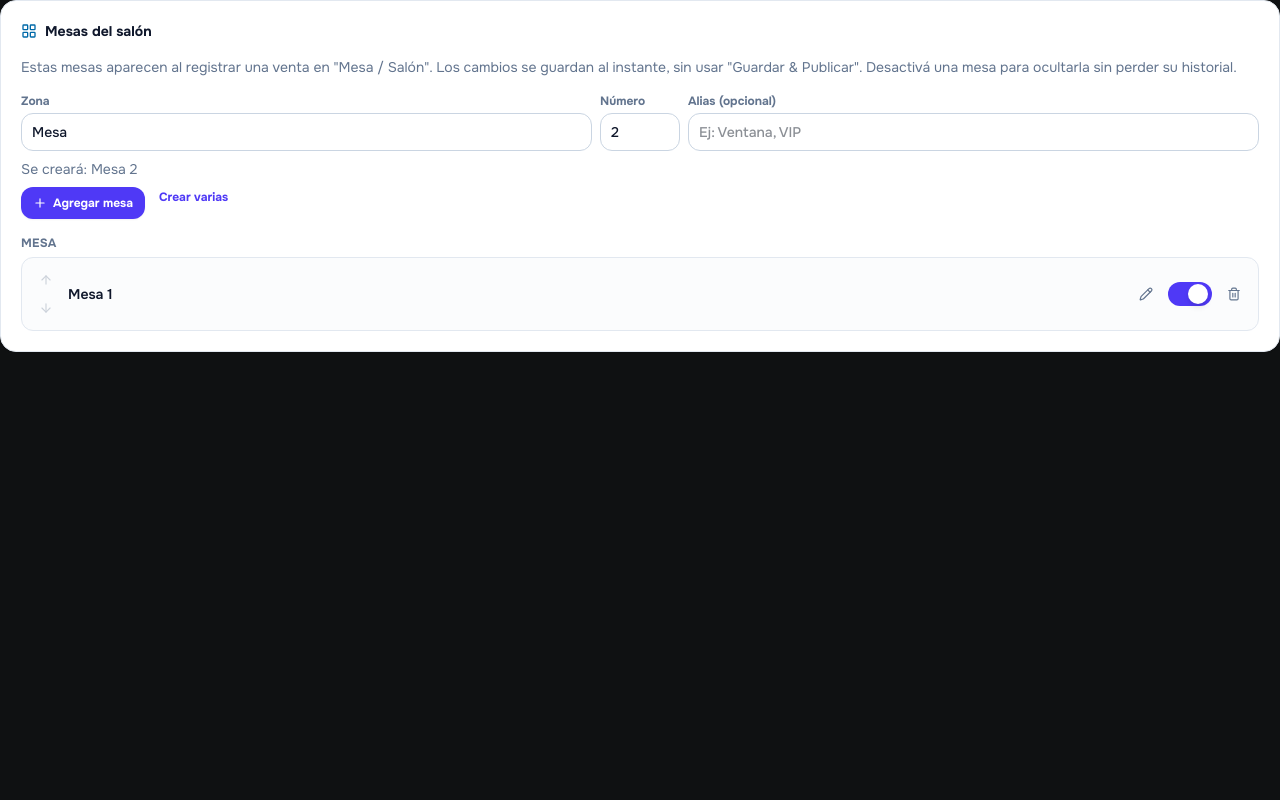
Test: CustomizerTablesSection › asks for confirmation before deleting and keeps the table when cancelled
Expected: the text "Mesa 1" is shown, [68,285,113,303]
Click the button named "Eliminar Mesa 1".
click(1234, 294)  # box [1220,280,1248,308]
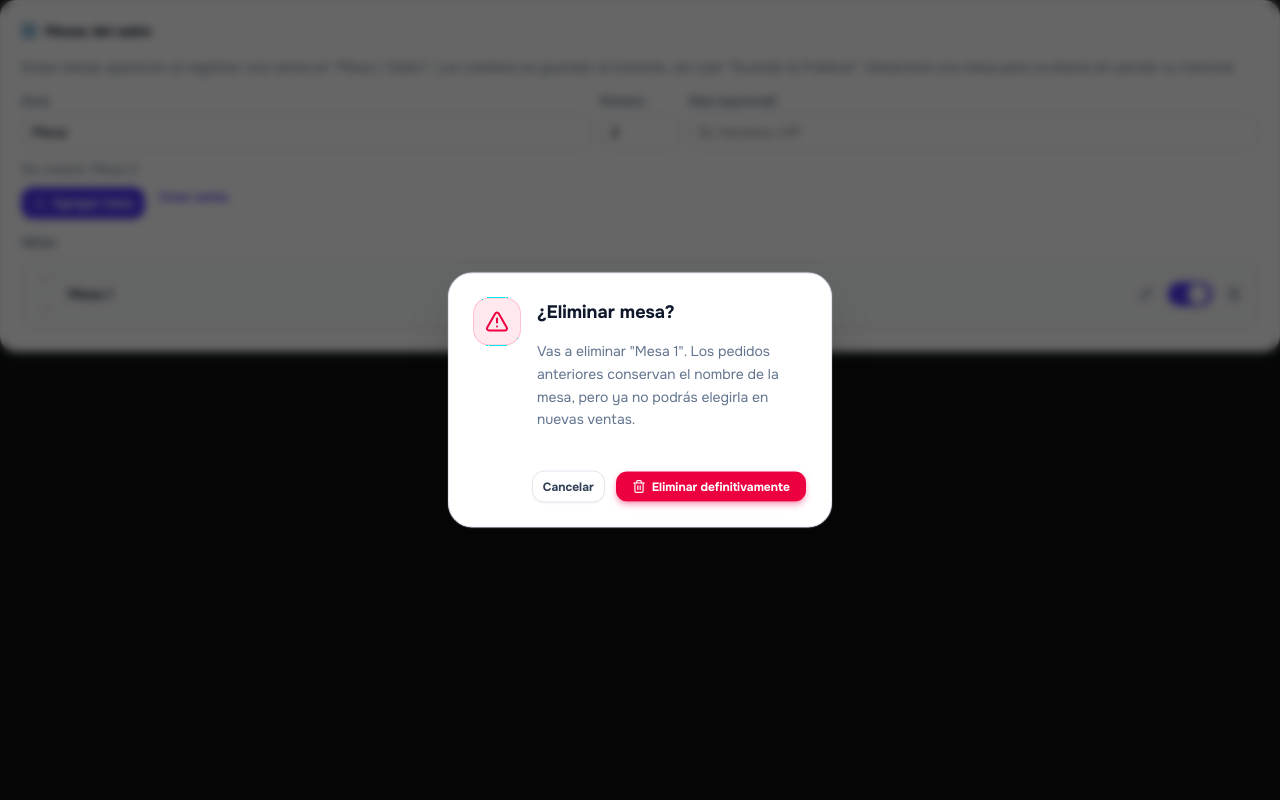
Expected: the text "Mesa 1" is shown, [537,342,779,428]
Click the button "Cancelar".
click(568, 486)  # box [532,470,605,502]
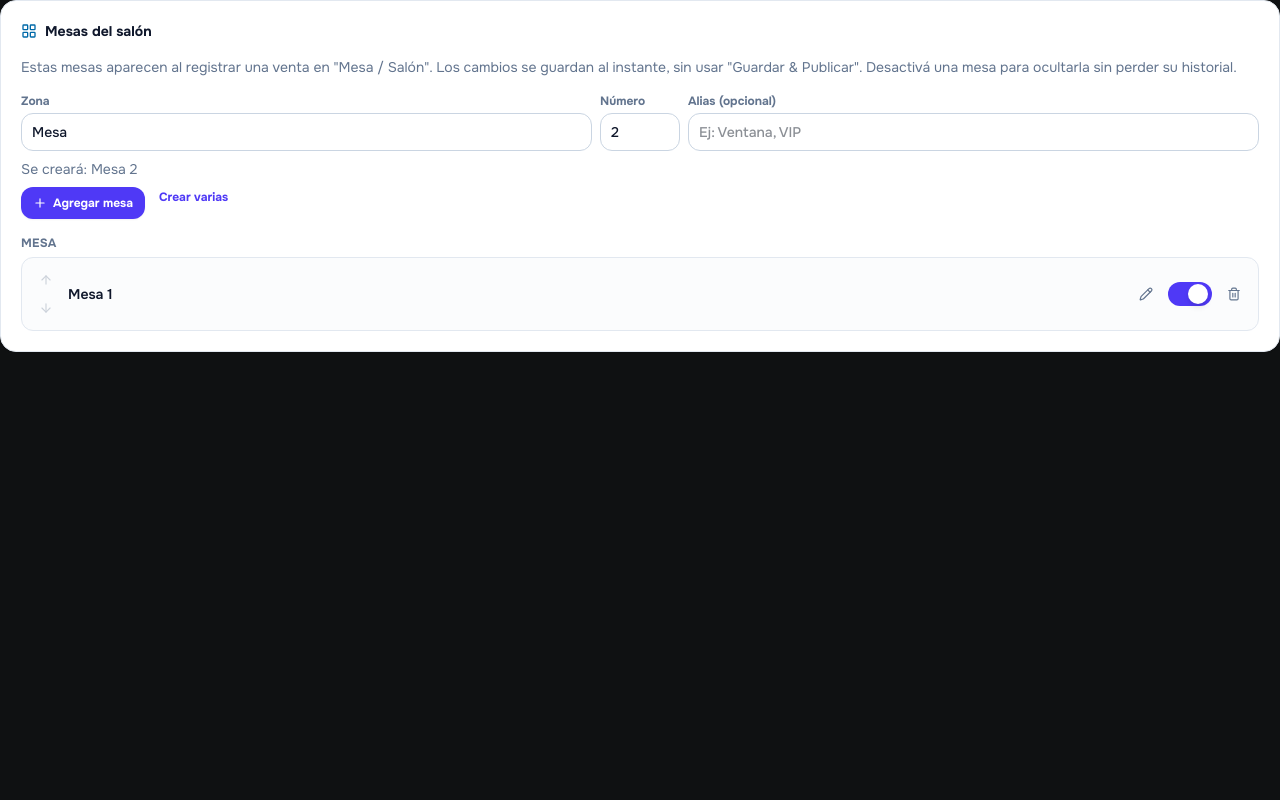
Click the button named "Eliminar Mesa 1".
click(1234, 294)  # box [1220,280,1248,308]
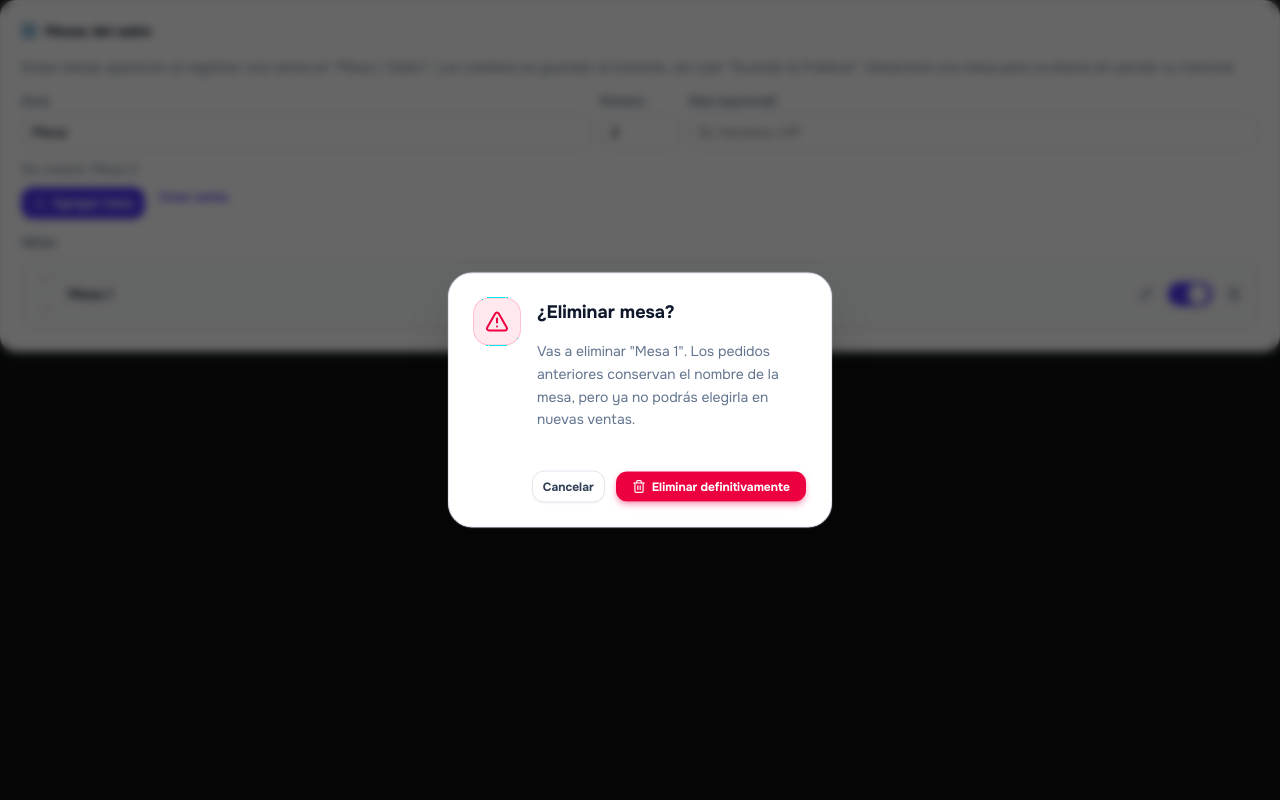
Click the button "Eliminar definitivamente".
click(711, 486)  # box [615,470,807,502]
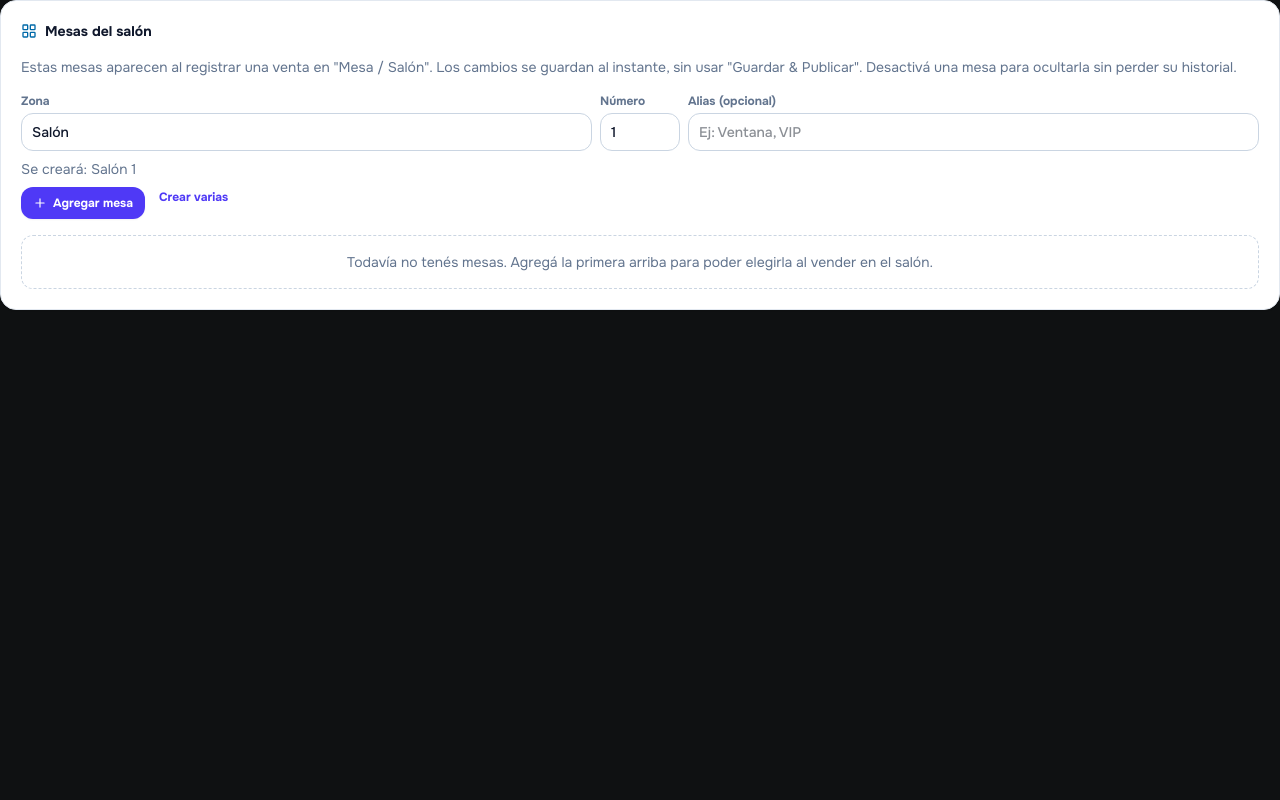
Expected: the text "Mesa 1" is gone
